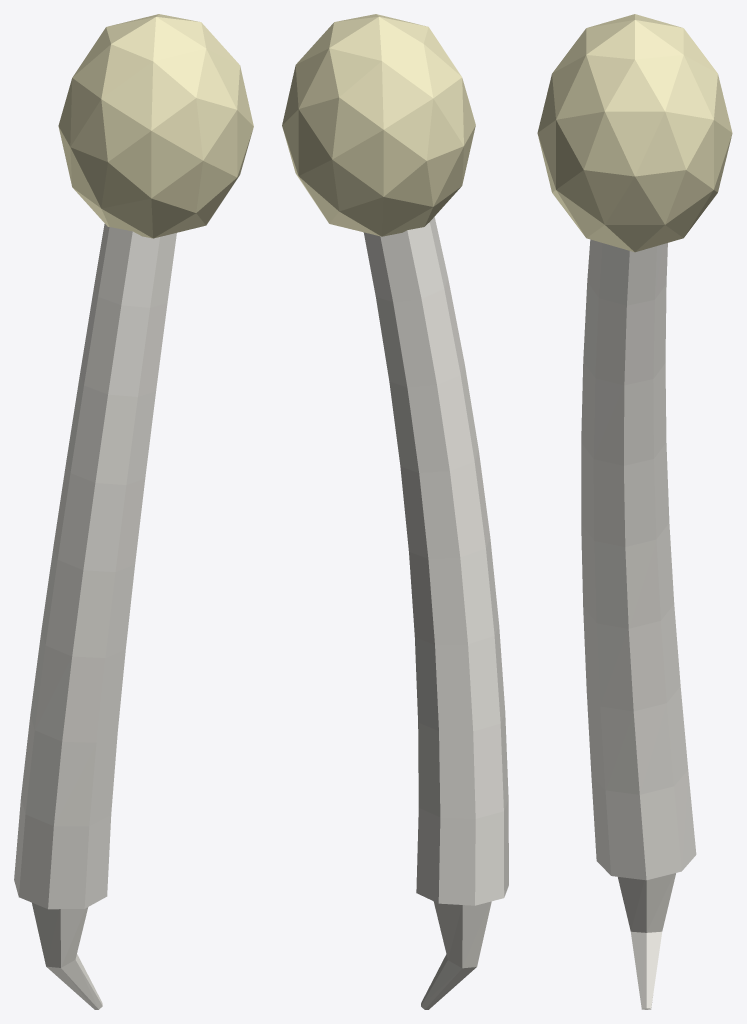
File: beansprout_s.glb
3 views of the same model, side by side, from view 1: azimuth 30°, elevation 25°; view 2: azimuth 150°, elevation 25°; view 3: azimuth 270°, elevation 25° (orthographic). The views are drawn at different scales.
Visible parts, largest first — view 1: stem, head, root; view 2: stem, head, root; view 3: stem, head, root.
Part boxes in pixels (left/top/right/bottom): stem: left=14, top=224, right=176, bottom=909; head: left=58, top=14, right=253, bottom=238; root: left=32, top=903, right=102, bottom=1009; stem: left=363, top=217, right=508, bottom=905; head: left=282, top=14, right=475, bottom=236; root: left=421, top=901, right=491, bottom=1009; stem: left=581, top=239, right=696, bottom=880; head: left=537, top=14, right=732, bottom=252; root: left=618, top=873, right=675, bottom=1009.
Bounding box in the file's own units: 0.0114 × 0.0494 × 0.00858.
